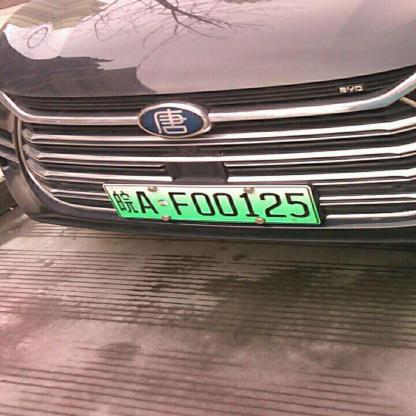lp: (102, 184, 319, 222)
